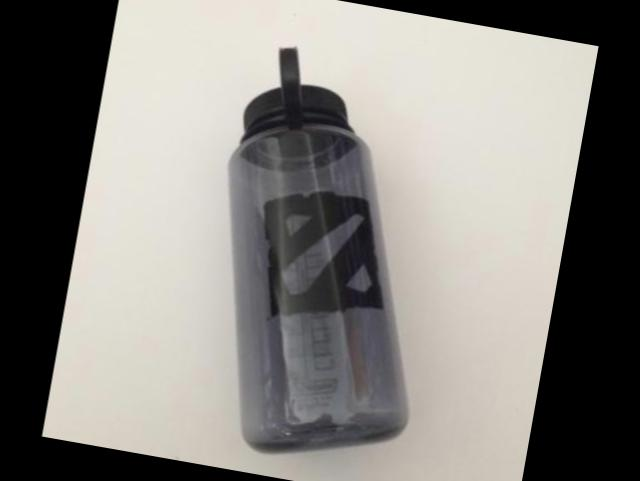plastic: (227, 45, 405, 449)
